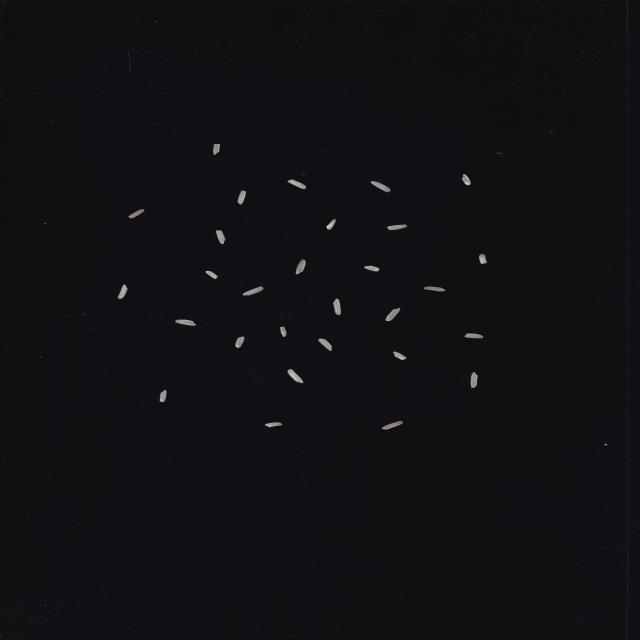Not: (287, 369, 304, 384), (385, 307, 401, 322), (370, 181, 391, 192), (242, 286, 264, 296), (381, 421, 404, 430), (286, 179, 306, 189), (318, 338, 333, 351), (127, 208, 145, 218), (295, 259, 306, 275), (215, 230, 226, 244), (175, 319, 197, 326), (118, 284, 128, 299), (387, 224, 408, 231), (333, 298, 341, 316), (469, 372, 478, 388), (392, 351, 408, 360), (461, 173, 472, 186), (205, 270, 219, 280), (234, 336, 245, 348), (237, 190, 246, 204), (424, 286, 445, 292), (464, 333, 484, 339), (326, 219, 336, 230), (159, 390, 168, 402), (363, 266, 380, 272), (264, 422, 284, 427), (479, 253, 488, 264), (279, 326, 287, 337), (213, 144, 220, 155)
